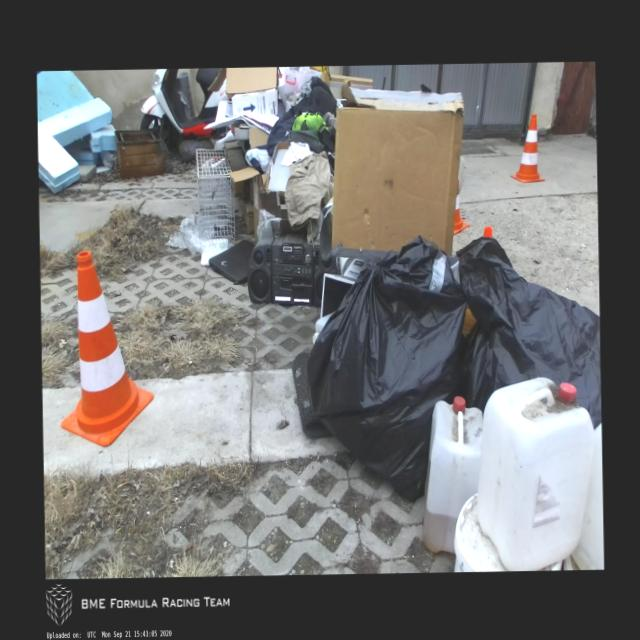large_orange_cone: (55, 250, 154, 447)
orange_cone: (510, 114, 544, 184), (452, 181, 470, 236)
